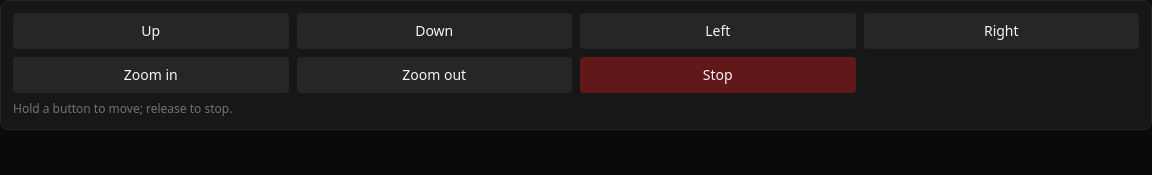
Test: shows a manage-permission message on 403
Press the mouse on the button "Up" at (151,31), box x1=13 y1=13 x2=288 y2=49
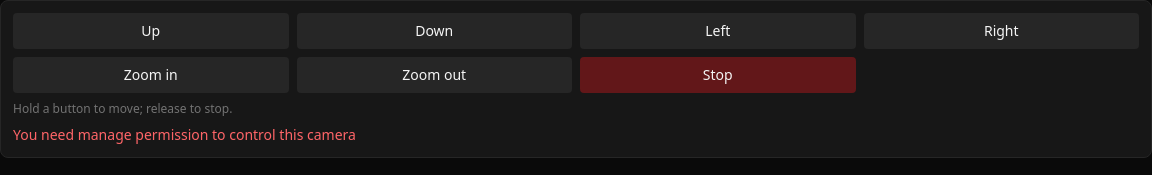
Check: the message shows "manage permission", box x1=13 y1=125 x2=356 y2=144
